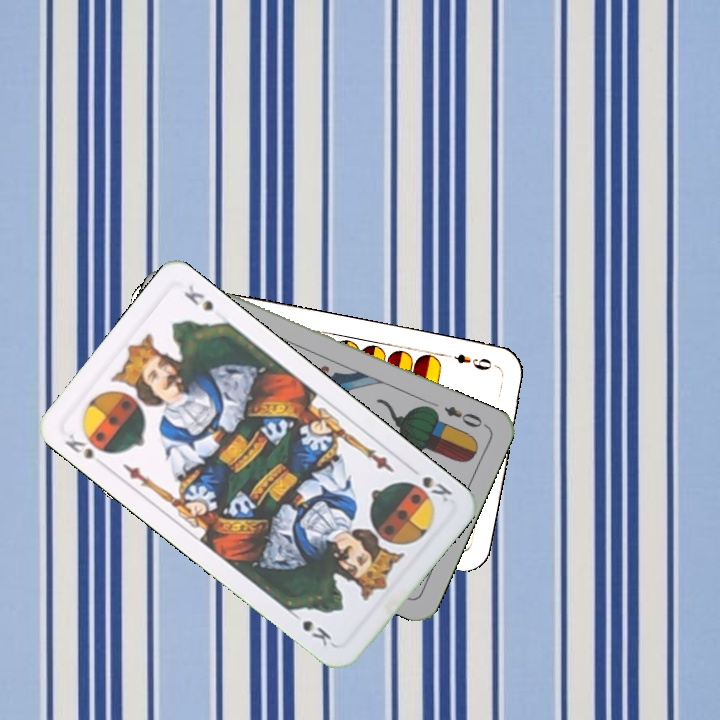E9: (450, 350, 500, 373)
EO: (440, 402, 490, 430)
SK: (60, 427, 114, 471), (418, 472, 455, 505)
